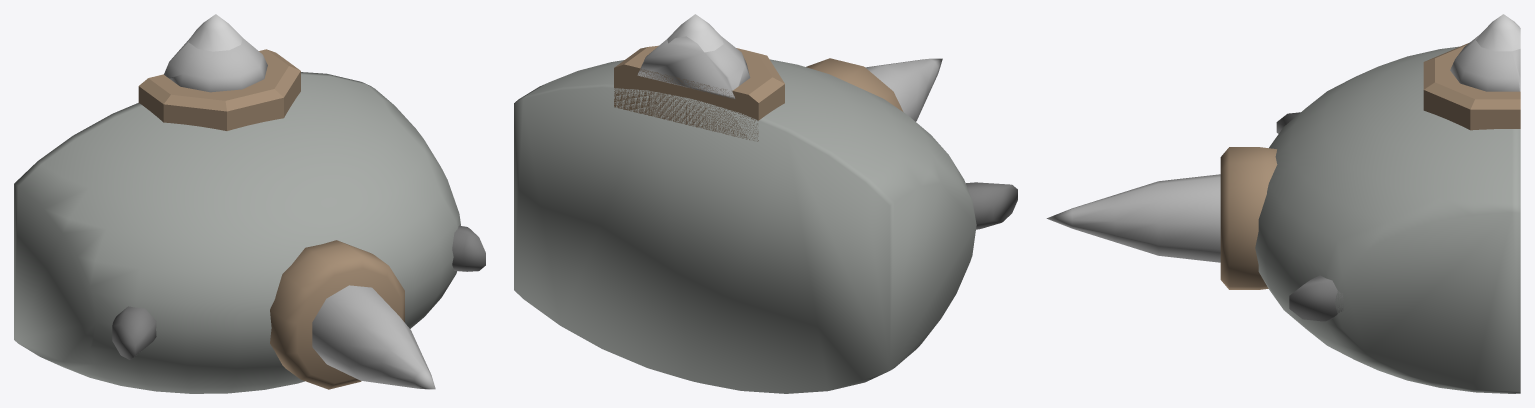
File: newsha-117.glb
3 views of the same model, side by side, from view 1: azimuth 30°, elevation 25°; view 2: azimuth 150°, elevation 25°; view 3: azimuth 270°, elevation 25° (orthographic). The views are drawn at different scales.
Parts seen in each view (by area): view 1: newsha-117; view 2: newsha-117; view 3: newsha-117.
Part boxes in pixels (<box>): newsha-117: <box>14,14,485,393</box>; newsha-117: <box>514,14,1017,393</box>; newsha-117: <box>1046,14,1520,393</box>.
Size of the model in its own units: 2 by 1.83 by 2.29.
